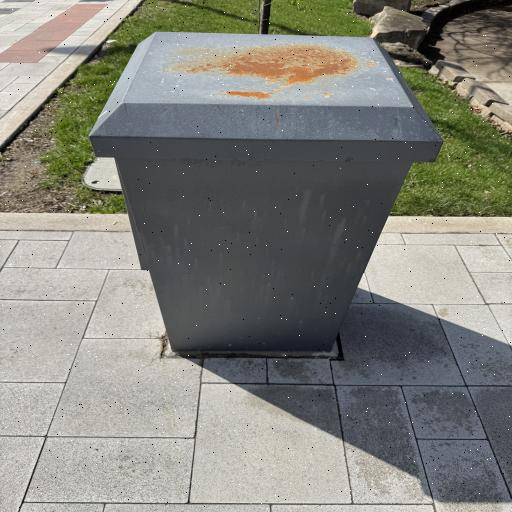Electrical Box: (88, 31, 441, 357)
